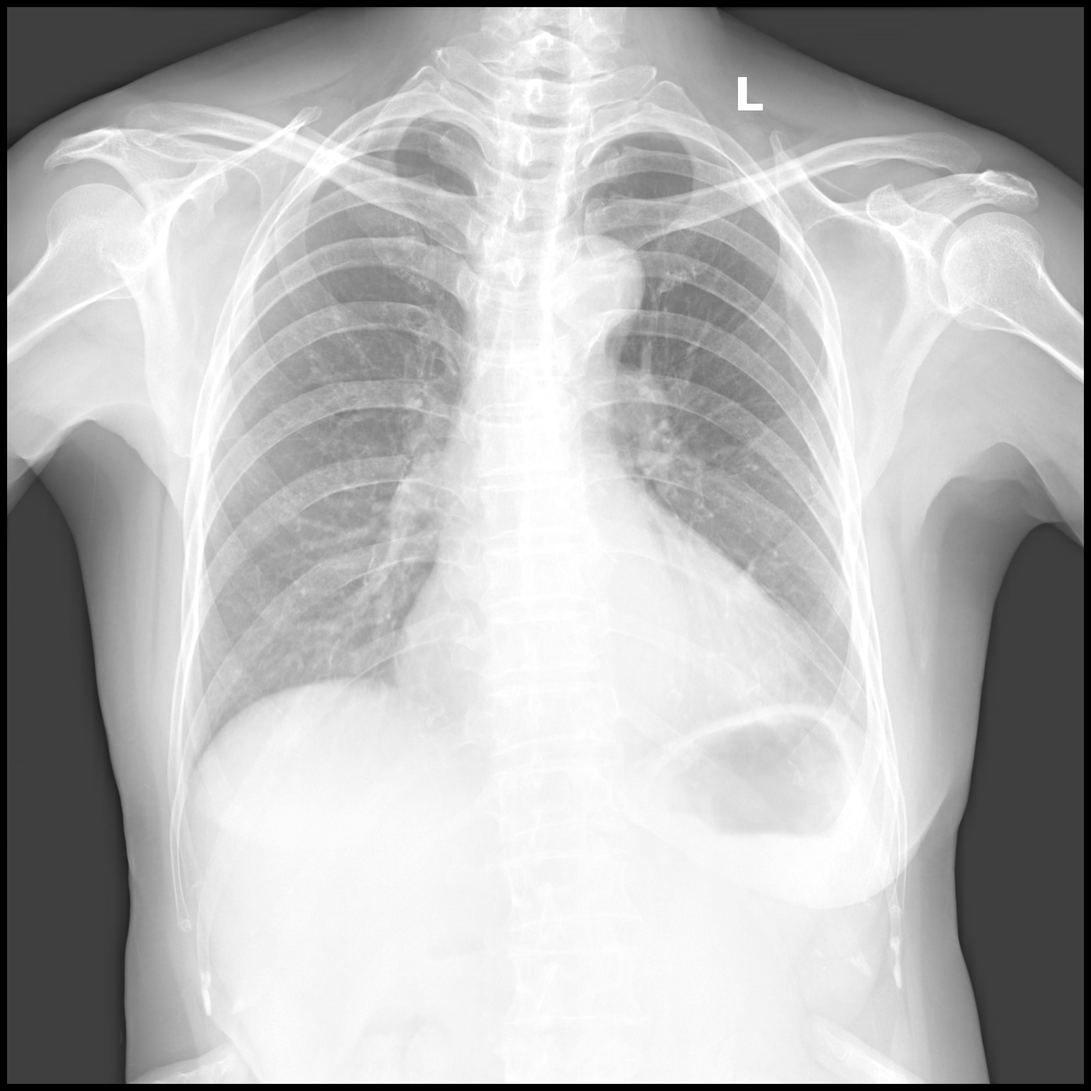Aortic enlargement: (543, 233, 645, 335)
Cardiomegaly: (387, 589, 810, 729)
